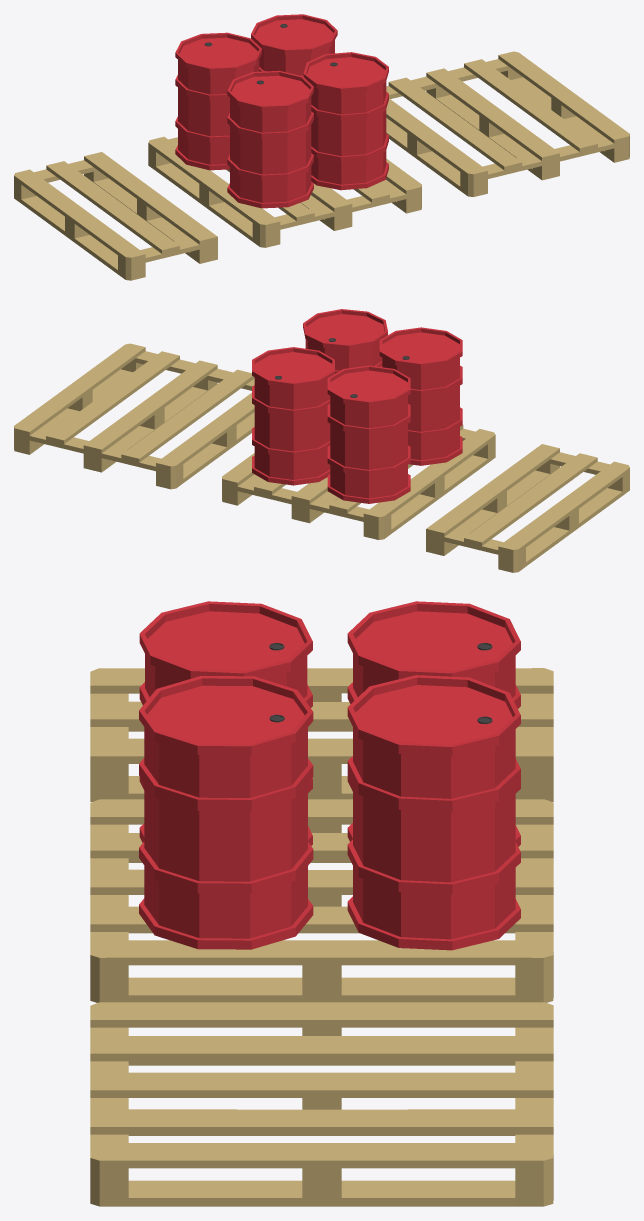
File: woodpallet's. + barrels.fbx
3 views of the same model, one above another, from view 1: azimuth 30°, elevation 25°; view 2: azimuth 150°, elevation 25°; view 3: azimuth 270°, elevation 25° (orthographic). The views are drawn at different scales.
Visible parts, largest first — view 1: Big Pallet.001, Small Pallet, Cylinder, Cylinder.002, Big Pallet, Cylinder.001, Cylinder.003; view 2: Big Pallet.001, Small Pallet, Cylinder.001, Cylinder.003, Big Pallet, Cylinder, Cylinder.002; view 3: Big Pallet.001, Cylinder.002, Cylinder.003, Big Pallet, Small Pallet, Cylinder.001, Cylinder.
Part boxes in pixels (x1=…): Big Pallet.001: x1=386, y1=51, x2=629, y2=196; Small Pallet: x1=14, y1=152, x2=217, y2=280; Cylinder: x1=227, y1=70, x2=313, y2=208; Cylinder.002: x1=303, y1=52, x2=388, y2=190; Big Pallet: x1=148, y1=136, x2=421, y2=247; Cylinder.001: x1=175, y1=32, x2=261, y2=170; Cylinder.003: x1=251, y1=14, x2=337, y2=76; Big Pallet.001: x1=14, y1=343, x2=254, y2=489; Small Pallet: x1=426, y1=444, x2=629, y2=572; Cylinder.001: x1=327, y1=365, x2=410, y2=503; Cylinder.003: x1=252, y1=347, x2=334, y2=485; Big Pallet: x1=222, y1=425, x2=495, y2=539; Cylinder: x1=379, y1=327, x2=462, y2=465; Cylinder.002: x1=303, y1=309, x2=387, y2=373; Big Pallet.001: x1=90, y1=1002, x2=553, y2=1206; Cylinder.002: x1=139, y1=676, x2=313, y2=949; Cylinder.003: x1=347, y1=675, x2=520, y2=950; Big Pallet: x1=90, y1=799, x2=553, y2=1002; Small Pallet: x1=90, y1=668, x2=553, y2=801; Cylinder.001: x1=347, y1=601, x2=520, y2=846; Cylinder: x1=139, y1=601, x2=312, y2=845.
Size of the model in its own units: 938 by 221 by 373.
